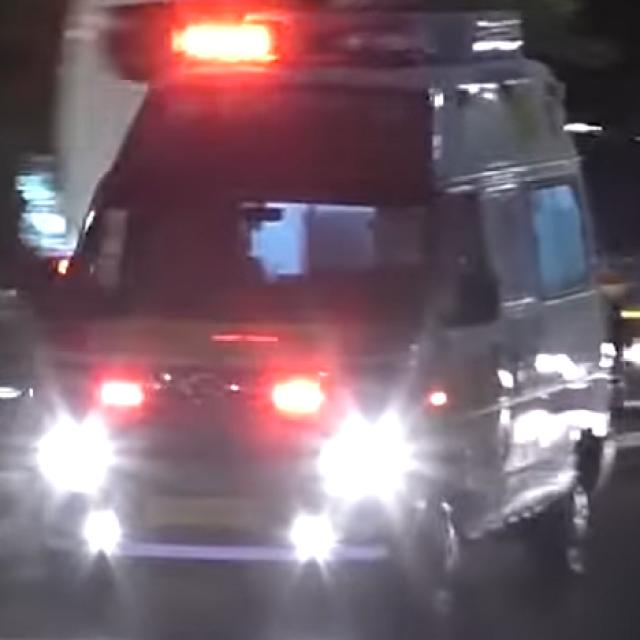ambulance: (8, 0, 628, 617)
